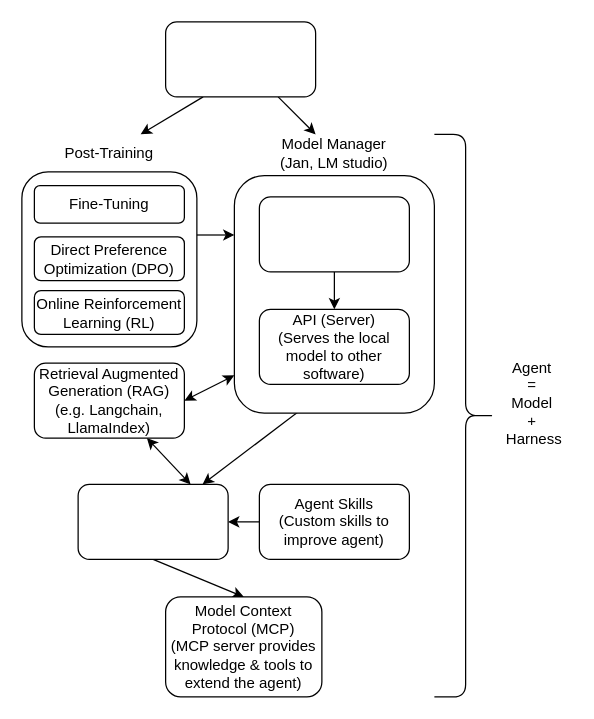
Image size: 594x719. Some labels were removed from this diagram. Each missing label, with the box of its shape:
Hardware (e.g. Graphics Card (VRAM), CPU RAM): (164, 21, 316, 97)
Harness (e.g. Copilot, Pi): (77, 483, 228, 559)
Runtime (Inference Engine) (e.g. llama.cpp, vLLM): (258, 196, 409, 272)
